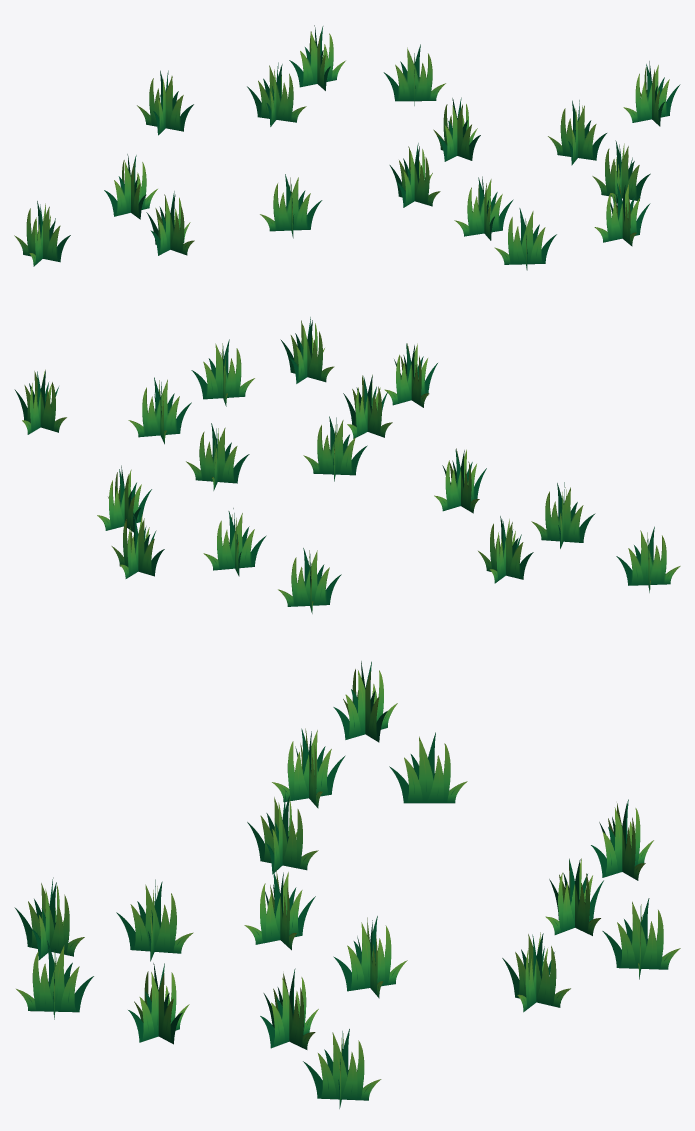
The model's file is grass_1.obj.
3 views of the same model, one above another, from view 1: azimuth 30°, elevation 25°; view 2: azimuth 150°, elevation 25°; view 3: azimuth 270°, elevation 25° (orthographic). The views are drawn at different scales.
Parts seen in each view (by area): view 1: grass_1_Plane.001; view 2: grass_1_Plane.001; view 3: grass_1_Plane.001.
Part boxes in pixels (x1,y1,x2,y2): grass_1_Plane.001: [14, 25, 680, 270]; grass_1_Plane.001: [14, 317, 680, 613]; grass_1_Plane.001: [14, 661, 680, 1108].
Bounding box in the file's own units: 14.11 × 1.2 × 10.05.
Materials: 1 (1 with a texture image).
